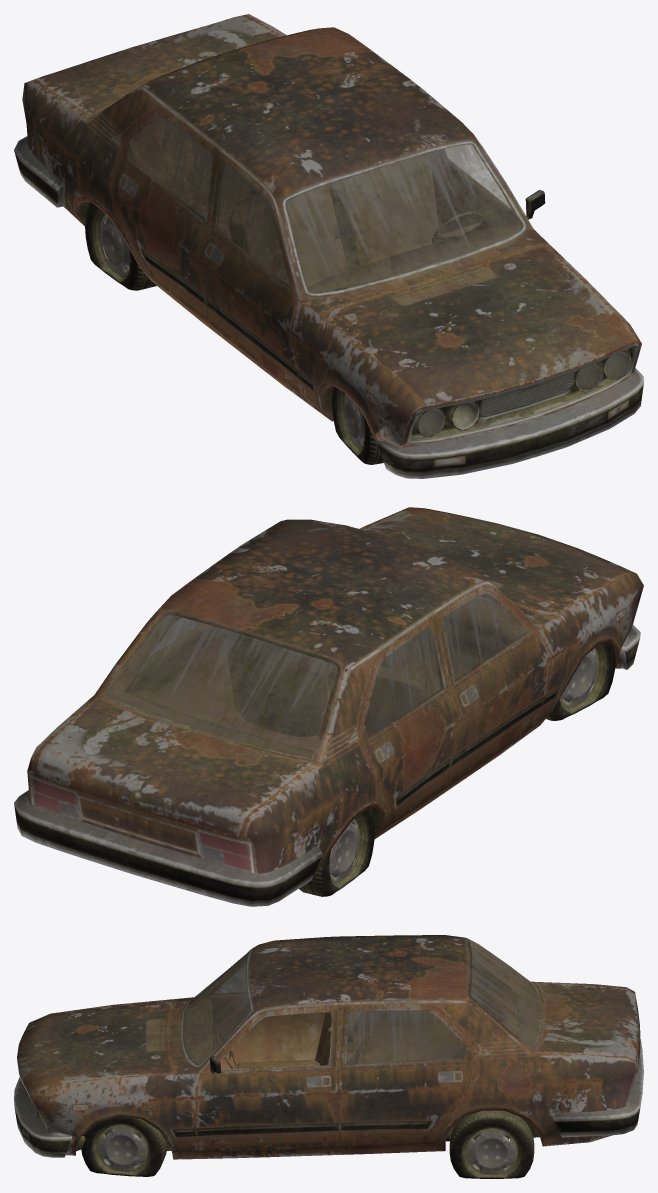
Rendered from abandoned_car_-_fiat_132.glb.
The picture shows the model from 3 angles, top to bottom: view 1: azimuth 30°, elevation 25°; view 2: azimuth 150°, elevation 25°; view 3: azimuth 270°, elevation 25°; orthographic projection. The views are drawn at different scales.
Visible parts, largest first — view 1: Object_2; view 2: Object_2; view 3: Object_2.
Part boxes in pixels (box(x1,y1,x2,y2)): Object_2: box(14, 14, 643, 478); Object_2: box(14, 507, 643, 906); Object_2: box(14, 935, 643, 1178).
Size of the model in its own units: 1679 by 1310 by 4382.
Materials: 1 (1 with a texture image).
